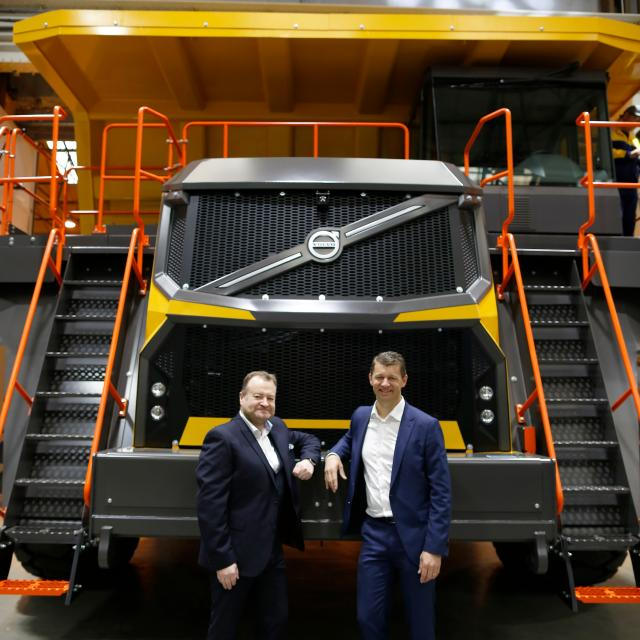dump_truck: (10, 3, 638, 636)
